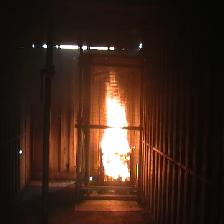fire: (100, 72, 132, 181)
